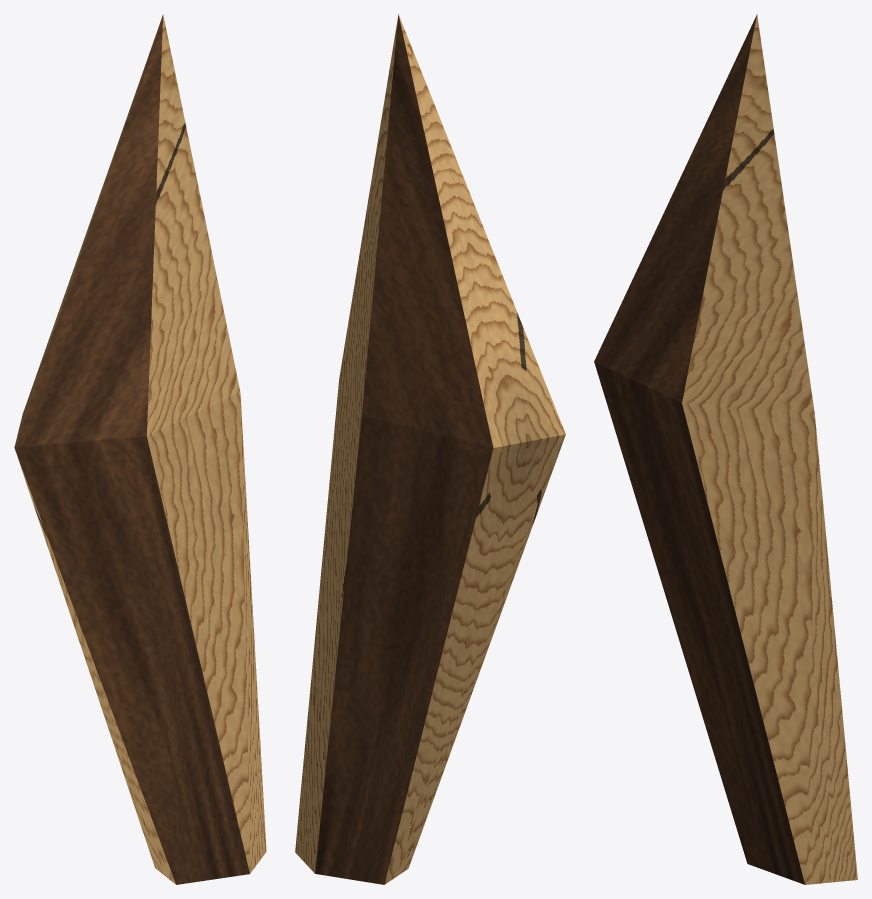
The model's file is chip.glb.
The picture shows the model from 3 angles, left to right: view 1: azimuth 30°, elevation 25°; view 2: azimuth 150°, elevation 25°; view 3: azimuth 330°, elevation 25°; orthographic projection. The views are drawn at different scales.
Visible parts, largest first — view 1: chip_a; view 2: chip_a; view 3: chip_a.
Part boxes in pixels (x1=…): chip_a: x1=14, y1=14, x2=266, y2=884; chip_a: x1=295, y1=14, x2=565, y2=884; chip_a: x1=594, y1=14, x2=857, y2=884.
Bounding box in the file's own units: 0.0317 × 0.1 × 0.0112.
2 materials, 2 textured.
